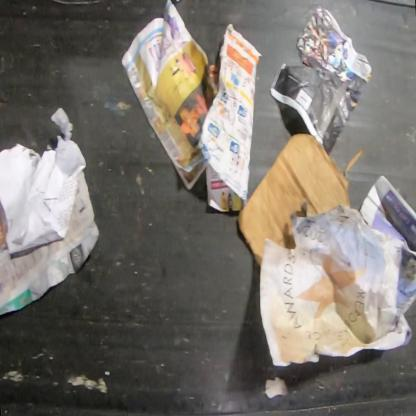cardboard: (238, 133, 362, 268)
